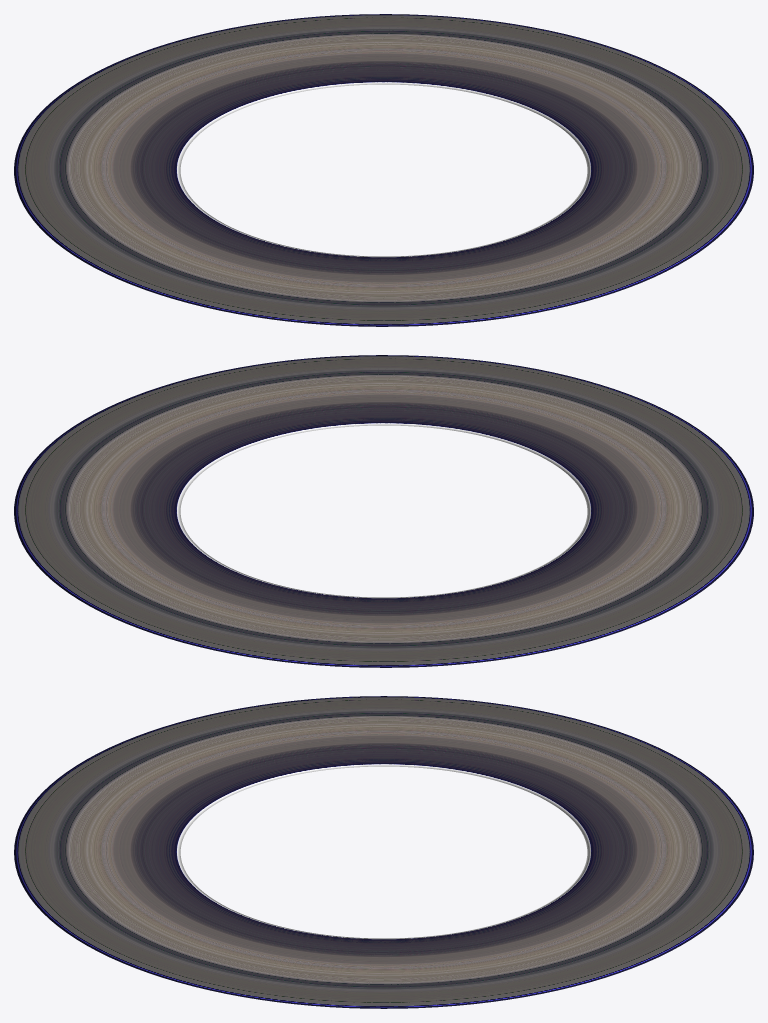
Rendered from ring.obj.
3 views of the same model, one above another, from view 1: azimuth 30°, elevation 25°; view 2: azimuth 150°, elevation 25°; view 3: azimuth 270°, elevation 25° (orthographic).
Parts seen in each view (by area): view 1: ring_Circle; view 2: ring_Circle; view 3: ring_Circle.
Boxes of the visible parts, left/top/right/bottom form: ring_Circle: left=14, top=14, right=753, bottom=326; ring_Circle: left=14, top=355, right=753, bottom=667; ring_Circle: left=14, top=696, right=753, bottom=1008.
Bounding box in the file's own units: 3.53 × 0.0275 × 3.53.
Materials: 1 (1 with a texture image).
